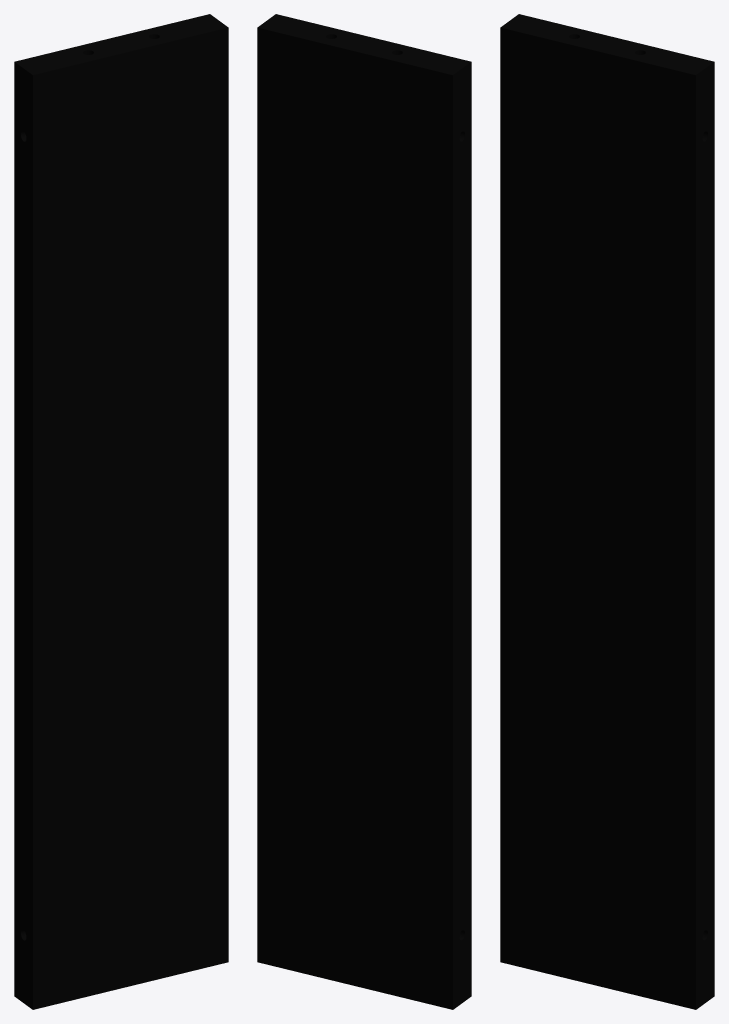
File: Door_Panel_557x122.glb
3 renders of one model, left to right at view 1: azimuth 30°, elevation 25°; view 2: azimuth 150°, elevation 25°; view 3: azimuth 330°, elevation 25°, orthographic.
Visible parts, largest first — view 1: Door_Panel_557x122; view 2: Door_Panel_557x122; view 3: Door_Panel_557x122.
Part boxes in pixels (box(x1,y1,x2,y2)): Door_Panel_557x122: box(14, 14, 228, 1009); Door_Panel_557x122: box(257, 14, 471, 1009); Door_Panel_557x122: box(500, 14, 714, 1009).
Bounding box in the file's own units: 0.122 × 0.557 × 0.02.
1 material, 1 textured.
